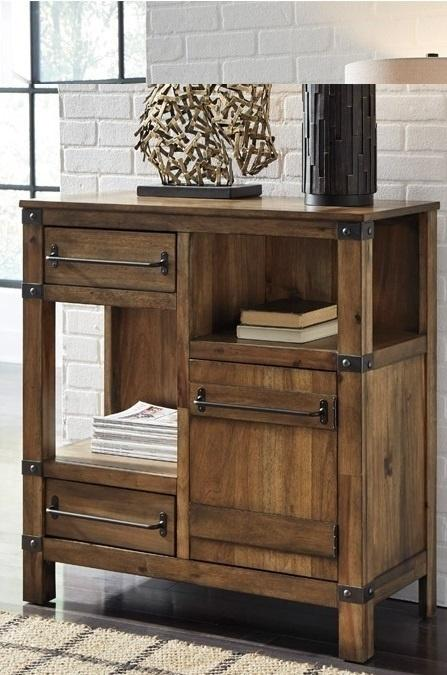cabinet_door: (189, 366, 337, 573), (48, 478, 179, 547), (48, 226, 178, 287)
handle: (40, 494, 172, 537), (193, 393, 333, 427), (46, 244, 175, 276)
